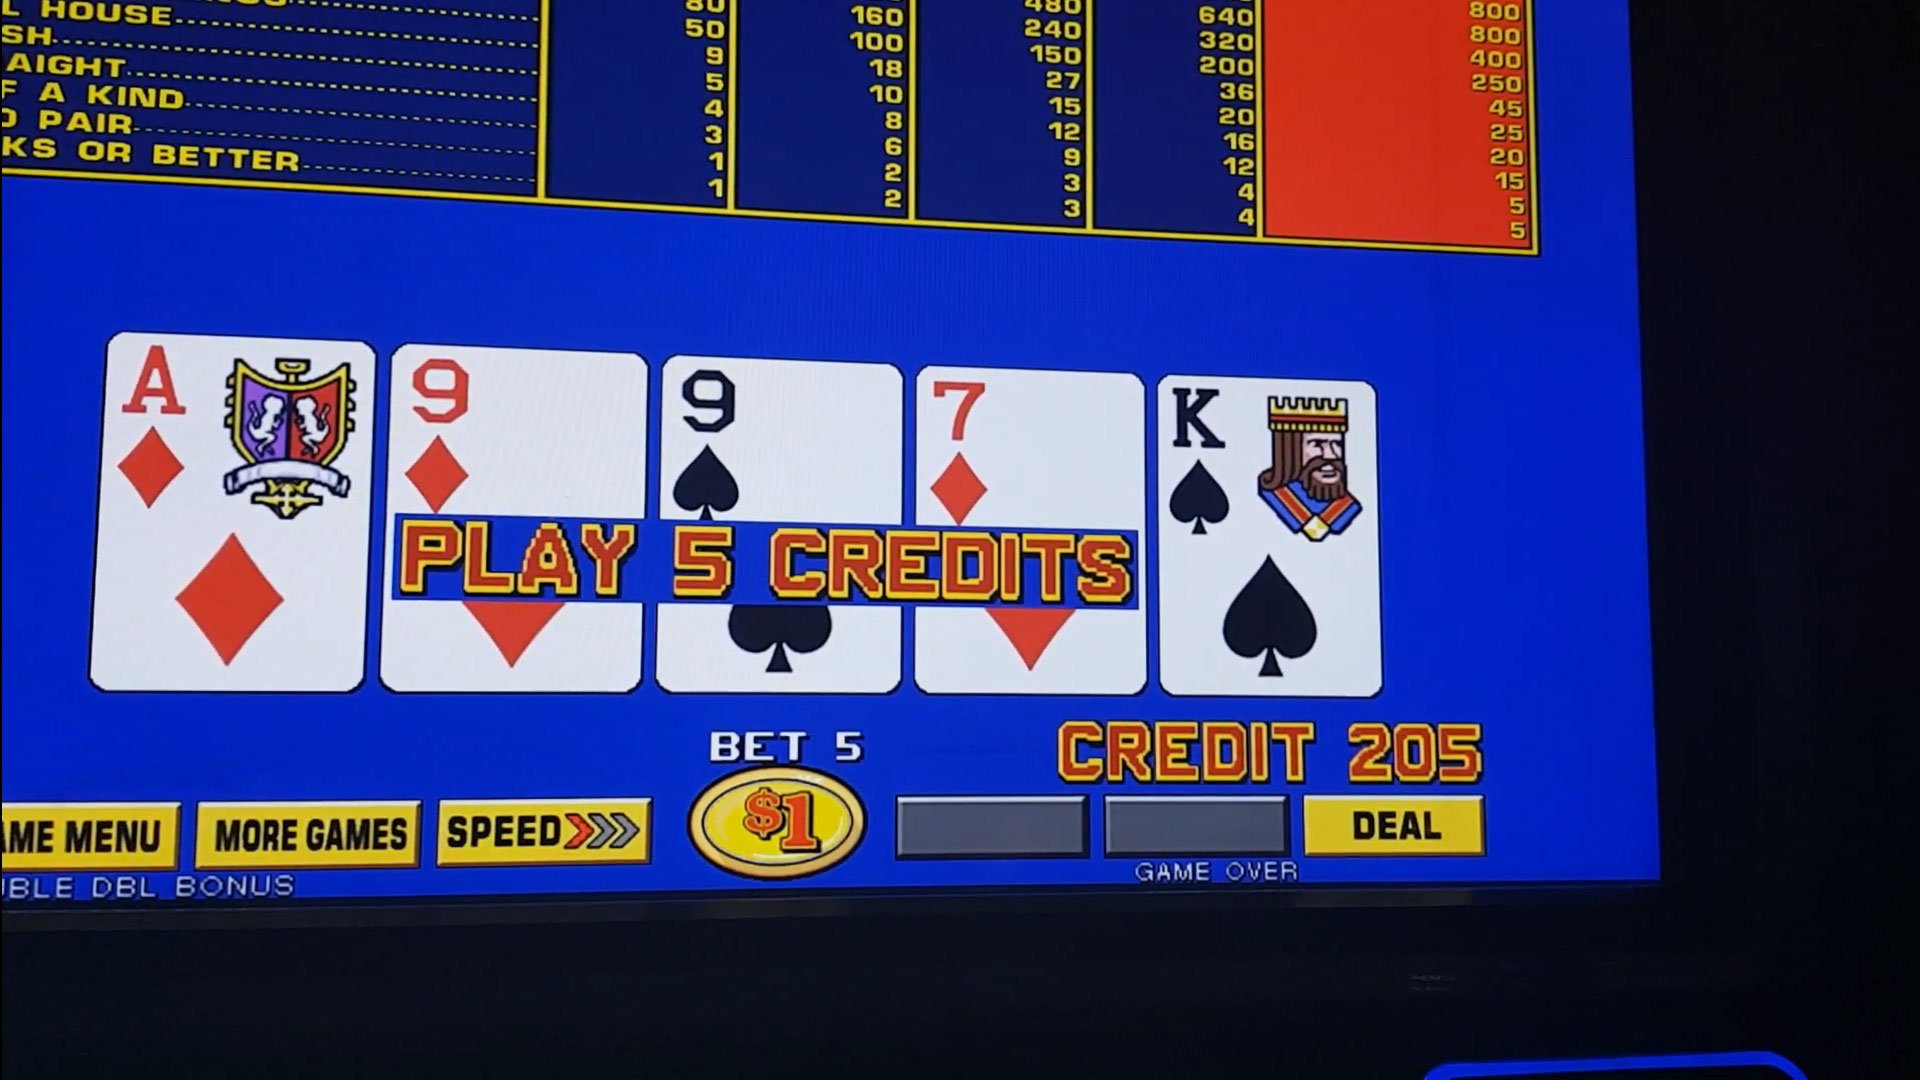D7: (920, 371, 1135, 529)
D9: (394, 353, 645, 512)
DA: (109, 340, 369, 509)
S9: (666, 367, 898, 517)
SK: (1160, 381, 1371, 535)
